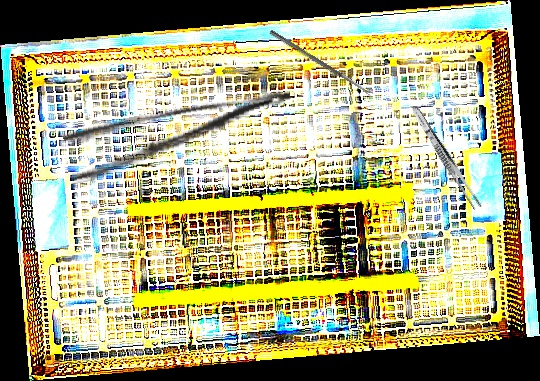Dressing Forceps: (61, 86, 300, 185), (408, 103, 484, 212)
Surgical Spoon: (268, 29, 374, 98)
